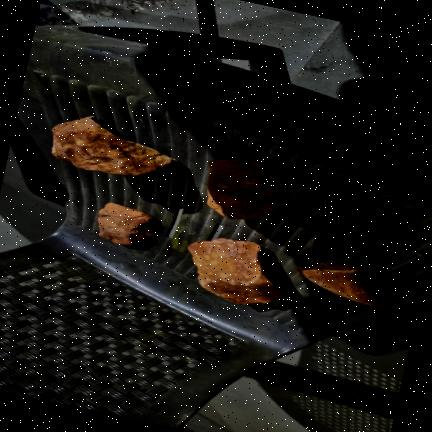Rocks: (52, 116, 175, 175), (189, 238, 285, 303), (208, 157, 301, 219), (299, 261, 390, 305), (98, 202, 156, 245)
